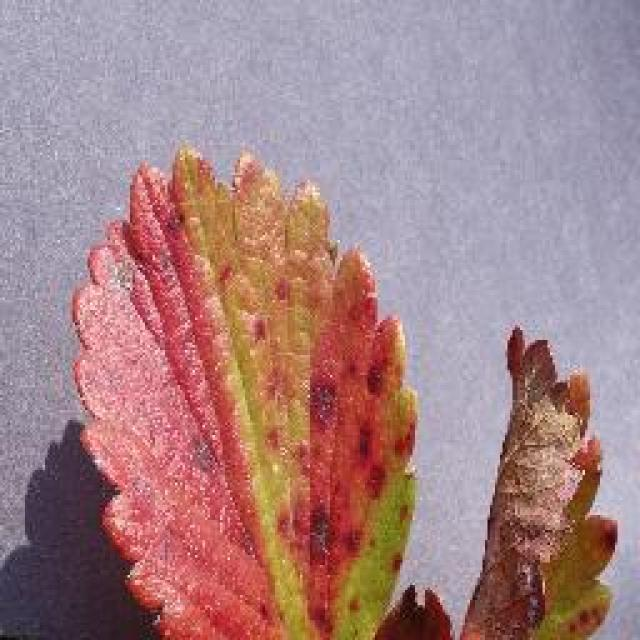Strawberry leaf scorch: (101, 218, 392, 600)
